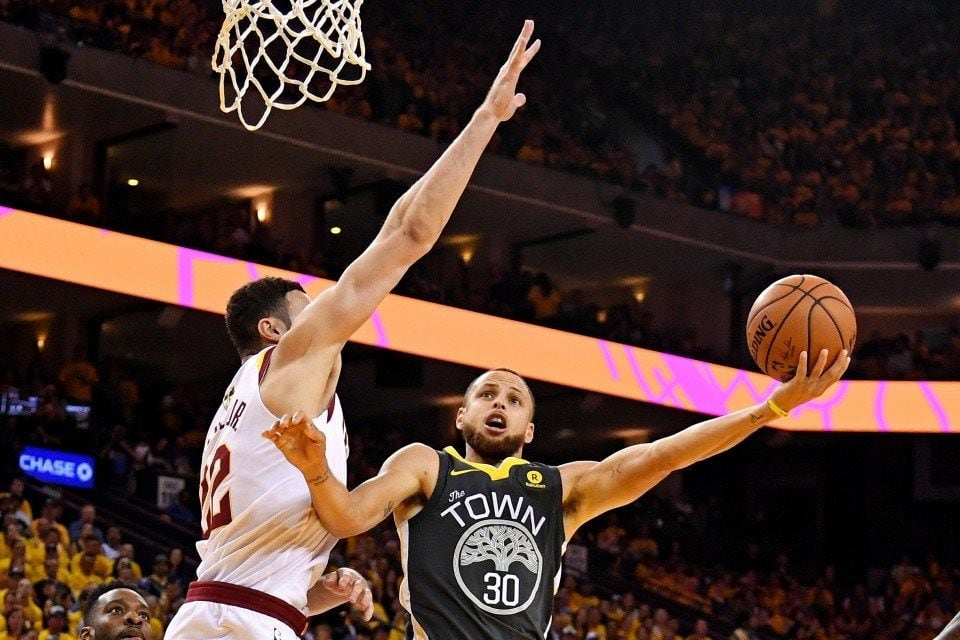Basketball: (744, 273, 864, 385)
